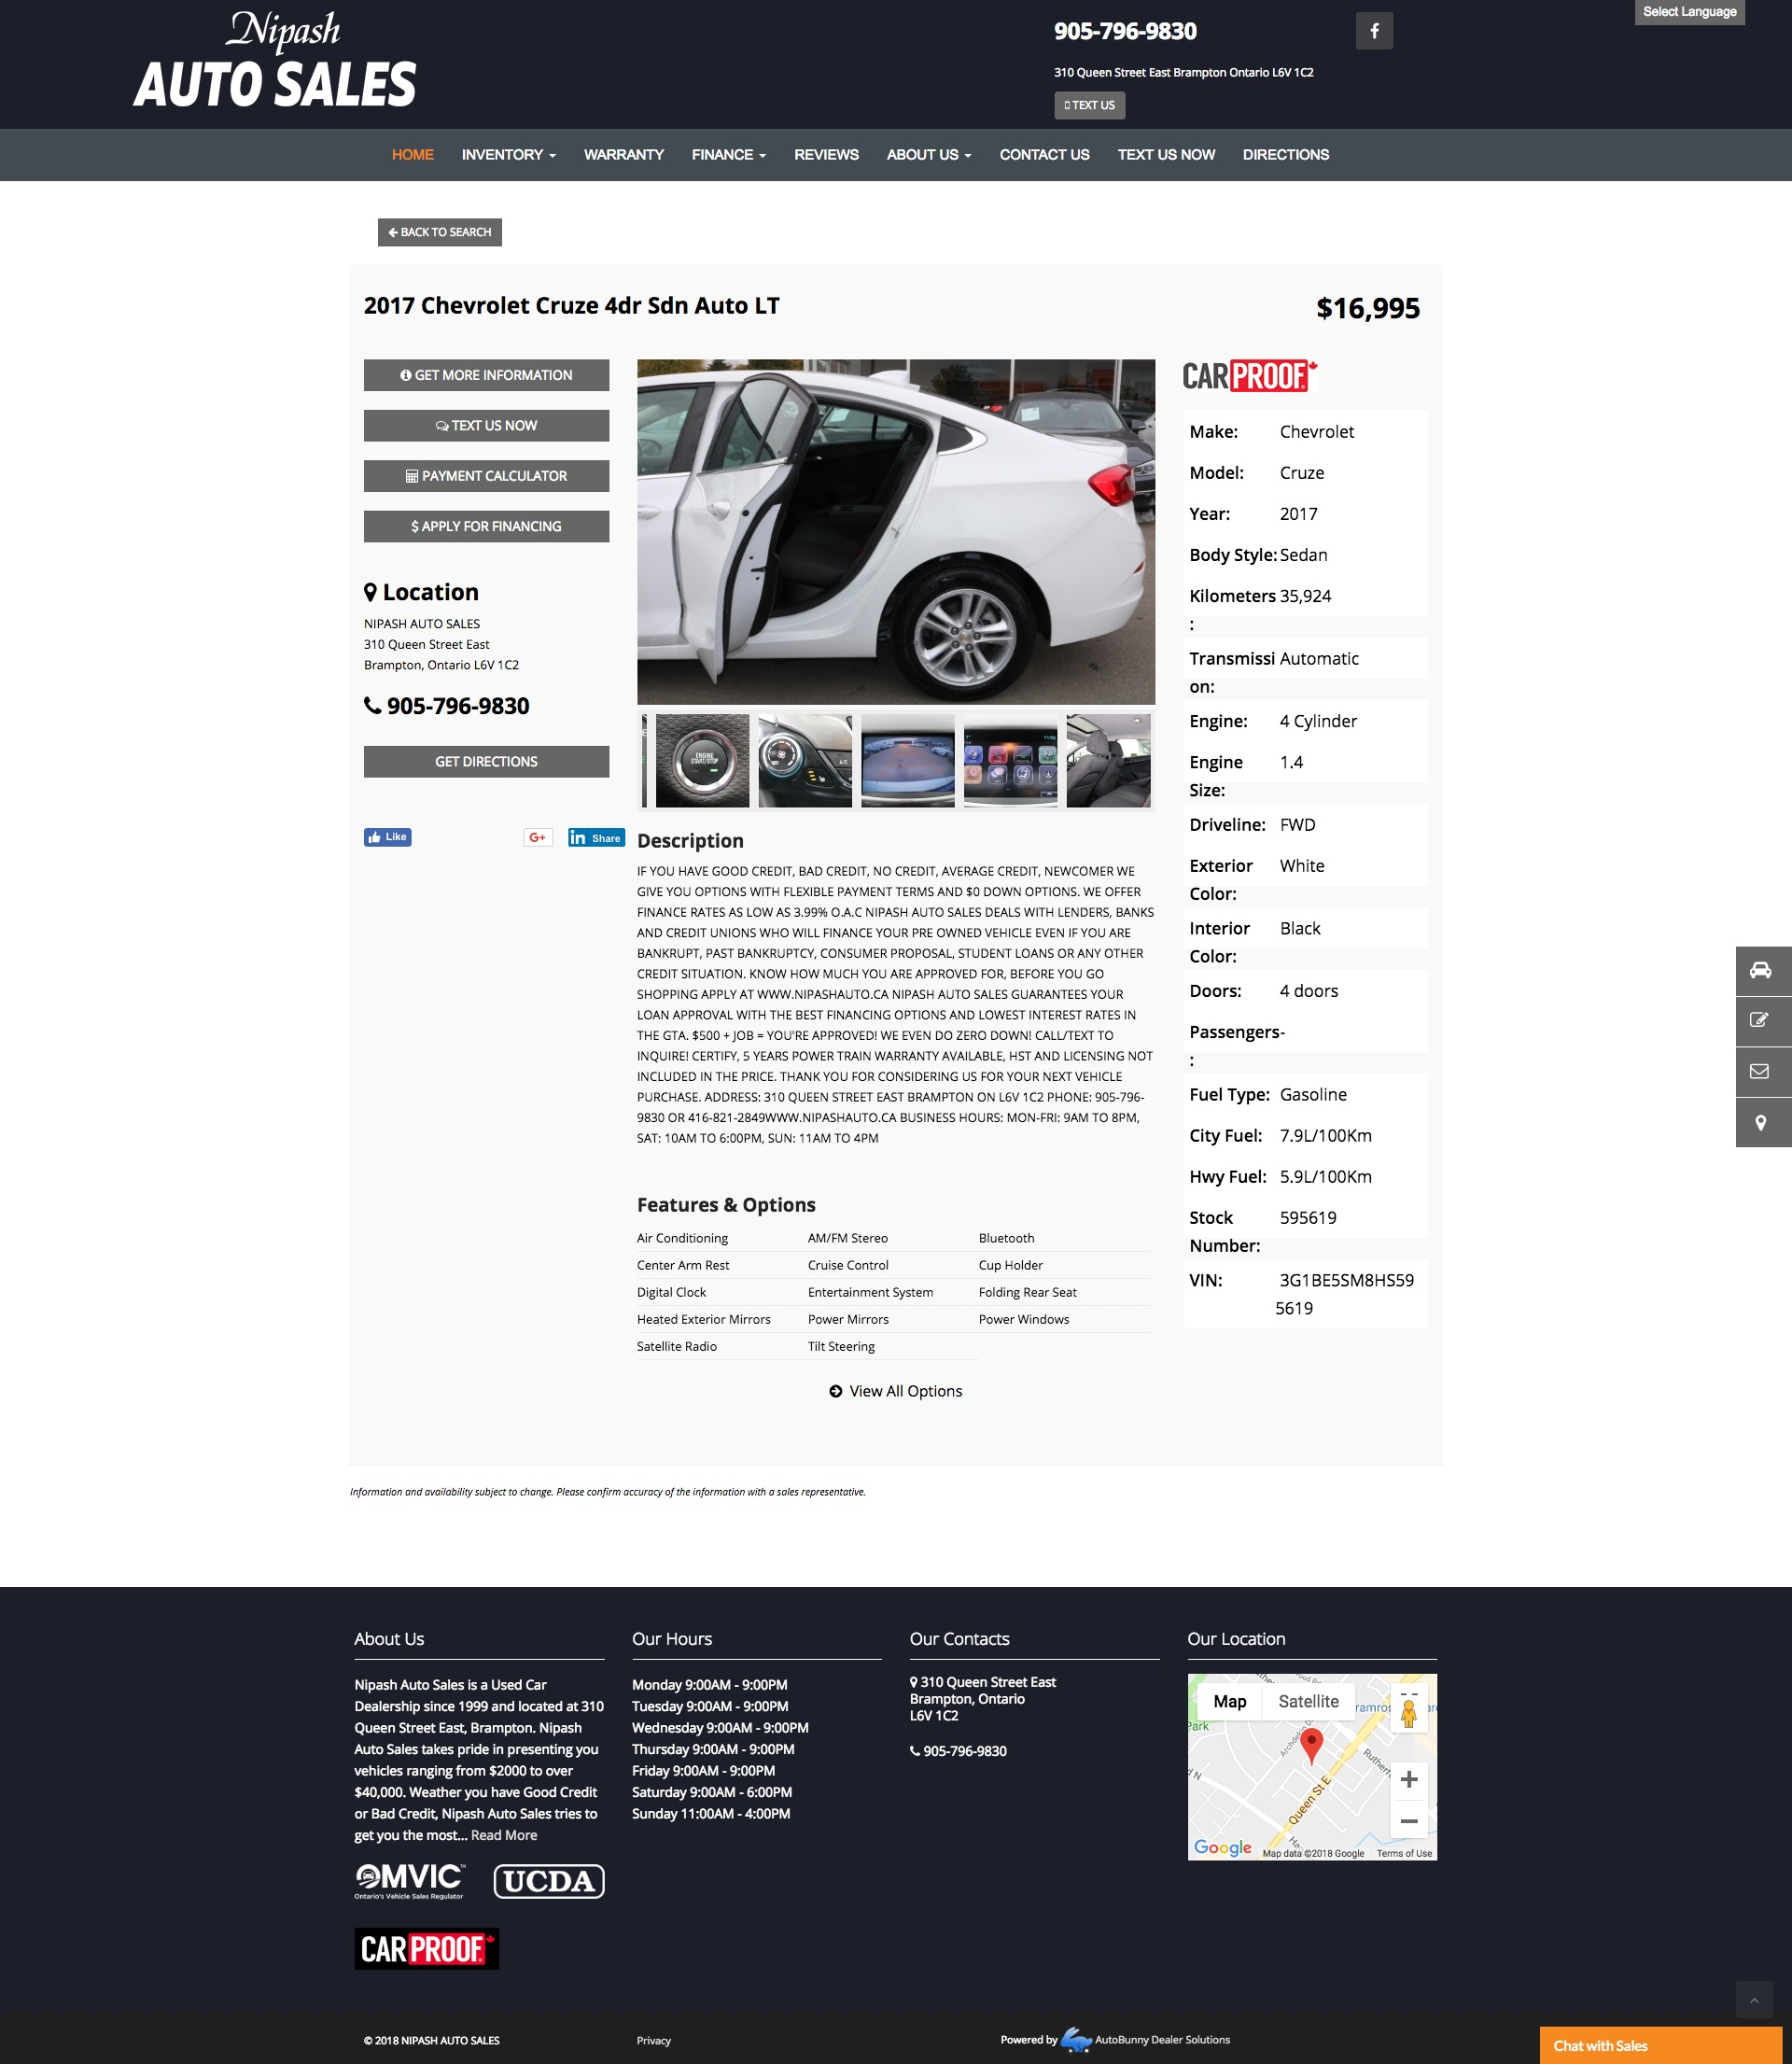car: (1127, 713, 1155, 807)
